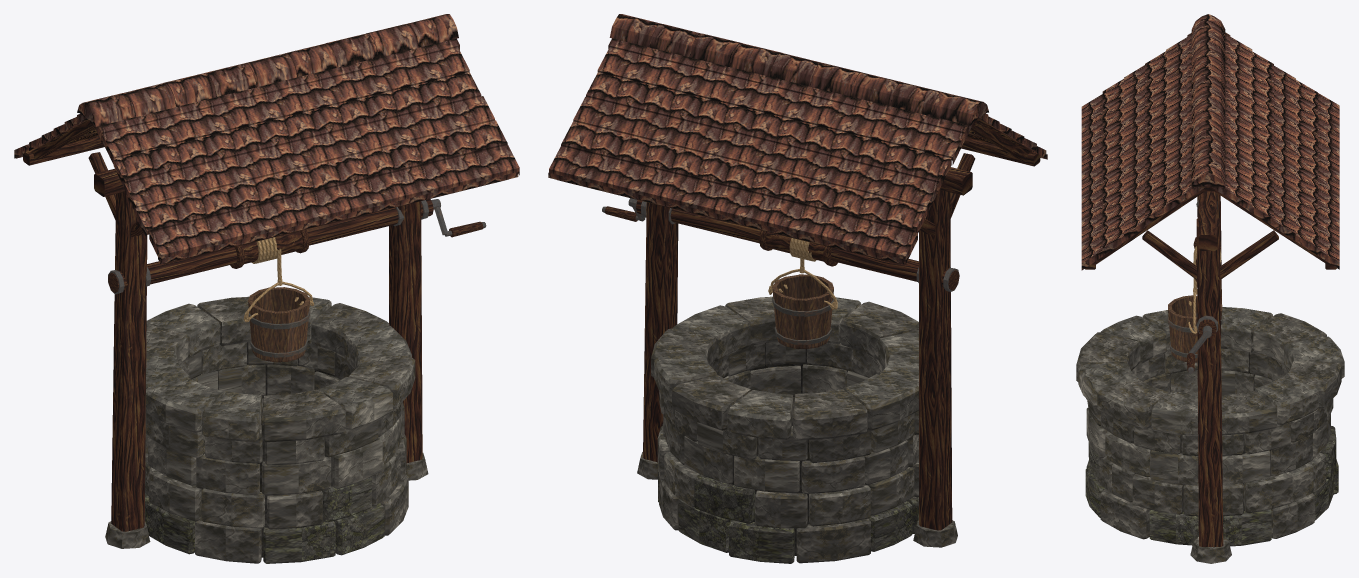
Rendered from Poco-de-Pedra.glb.
3 renders of one model, left to right at view 1: azimuth 30°, elevation 25°; view 2: azimuth 150°, elevation 25°; view 3: azimuth 270°, elevation 25°, orthographic. The views are drawn at different scales.
Visible parts, largest first — view 1: Telhado, Cantaria, Estrutura de madeira, Eixo e carretel, Balde existente, Manivela; view 2: Telhado, Cantaria, Estrutura de madeira, Balde existente, Eixo e carretel, Parede interna e agua; view 3: Cantaria, Telhado, Estrutura de madeira, Balde existente, Manivela.
Boxes of the visible parts, x1,y1,x2,y2 form: Telhado: (14,14,519,264); Cantaria: (105,296,428,563); Estrutura de madeira: (23,119,508,531); Eixo e carretel: (108,199,433,292); Balde existente: (248,287,310,362); Manivela: (431,199,486,237); Telhado: (548,14,1047,264); Cantaria: (637,296,957,563); Estrutura de madeira: (557,118,1040,530); Balde existente: (772,274,833,349); Eixo e carretel: (636,200,959,290); Parede interna e agua: (687,343,871,555); Cantaria: (1076,307,1344,563); Telhado: (1081,14,1339,270); Estrutura de madeira: (1085,186,1336,546); Balde existente: (1167,295,1222,362); Manivela: (1187,325,1211,373).
Bounding box in the file's own units: 2.27 × 2.51 × 1.52.
Materials: 11 (11 with a texture image).
